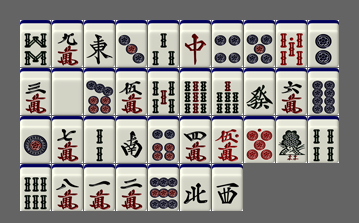0m: (212, 116, 243, 163)
0p: (244, 116, 275, 163)
0s: (276, 20, 307, 67)
1m: (84, 164, 115, 211)
1p: (20, 116, 51, 163)
1s: (276, 116, 307, 163)
1z: (84, 20, 115, 67)
2m: (116, 164, 147, 211)
2p: (308, 20, 339, 67)
2s: (84, 116, 115, 163)
2z: (116, 116, 147, 163)
3m: (20, 68, 51, 115)
3p: (116, 20, 147, 67)
3s: (148, 20, 179, 67)
3z: (212, 164, 243, 211)
4m: (180, 116, 211, 163)
4p: (212, 20, 243, 67)
4s: (308, 116, 339, 163)
4z: (180, 164, 211, 211)
5m: (116, 68, 147, 115)
5p: (244, 20, 275, 67)
5s: (148, 68, 179, 115)
5z: (52, 68, 83, 115)
6m: (276, 68, 307, 115)
6p: (148, 116, 179, 163)
6s: (20, 164, 51, 211)
6z: (244, 68, 275, 115)
7m: (52, 116, 83, 163)
7p: (84, 68, 115, 115)
7s: (212, 68, 243, 115)
7z: (180, 20, 211, 67)
8m: (52, 164, 83, 211)
8p: (308, 68, 339, 115)
8s: (20, 20, 51, 67)
9m: (52, 20, 83, 67)
9p: (148, 164, 179, 211)
9s: (180, 68, 211, 115)
